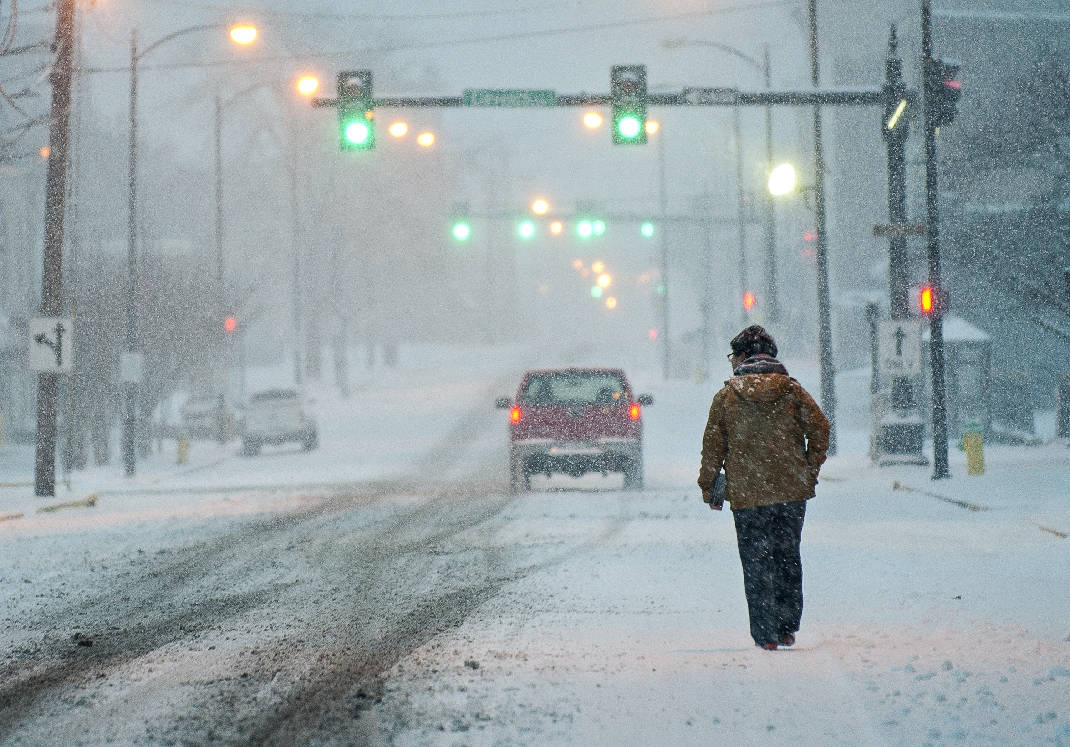person: (698, 320, 833, 651)
traffic light: (337, 70, 376, 155), (610, 62, 648, 147)
truck: (496, 366, 656, 494)
